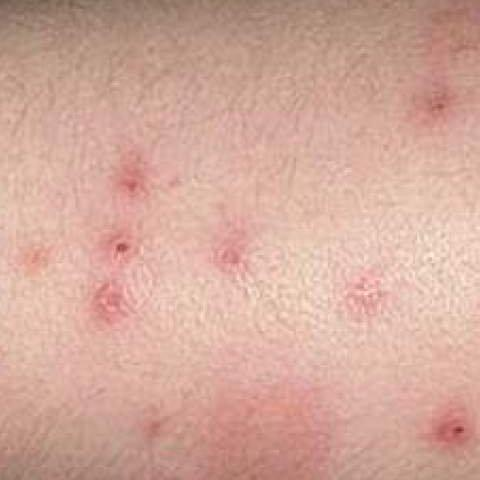Fleas: (335, 268, 394, 324), (99, 236, 129, 327), (109, 162, 152, 211), (435, 406, 478, 445), (217, 237, 250, 267), (429, 87, 454, 119)
